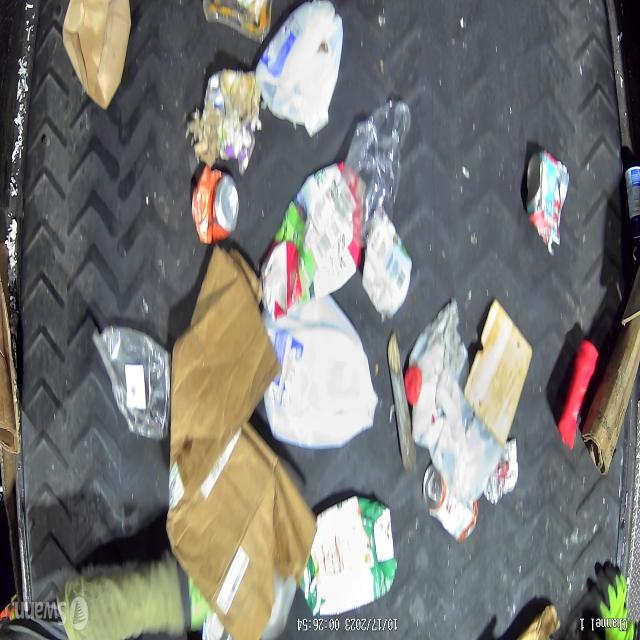can: (525, 149, 570, 254), (422, 463, 478, 541), (190, 164, 238, 247)
milk_jug: (403, 299, 501, 504), (262, 290, 380, 450), (256, 0, 342, 139)
non_white_jug: (260, 160, 365, 323), (300, 496, 397, 617)
